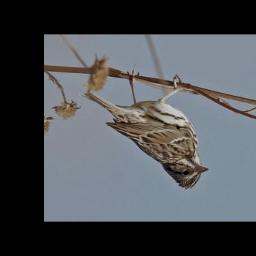Sparrow: (82, 67, 209, 190)
